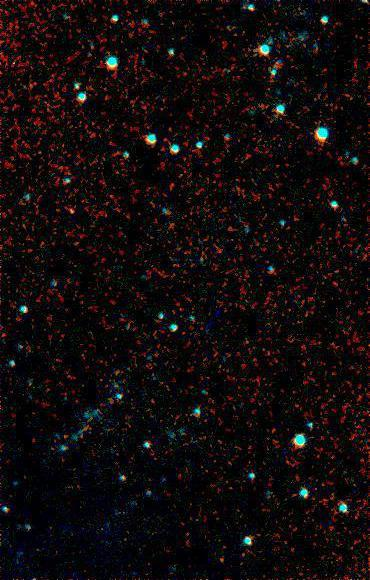star: (207, 545, 237, 575)
